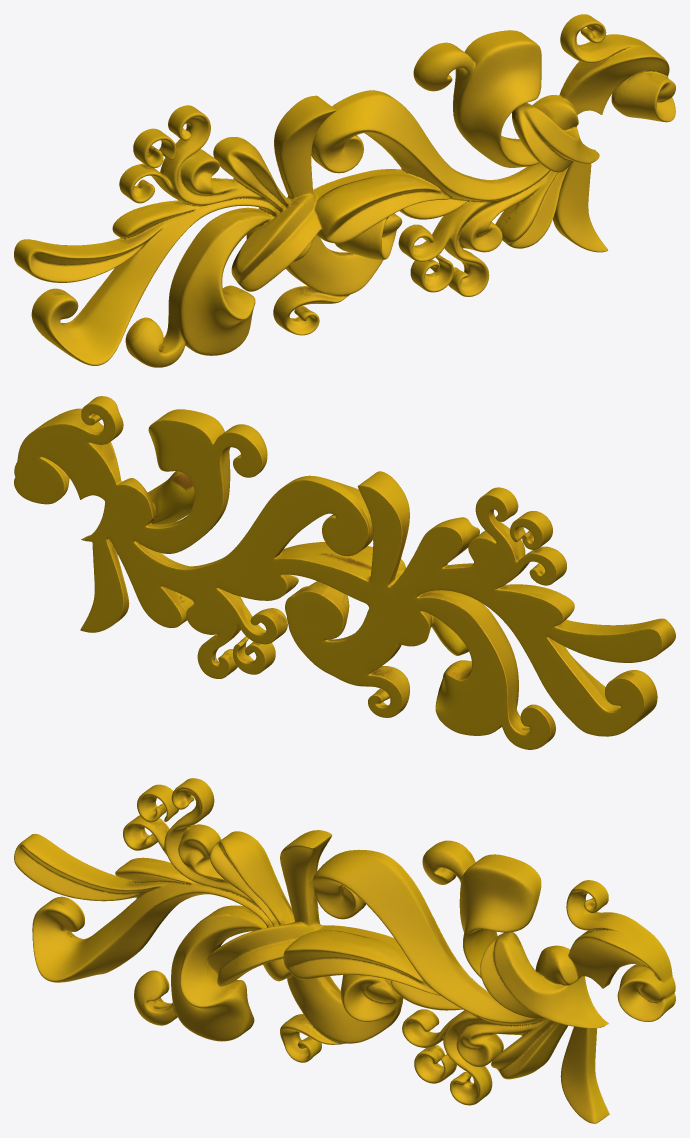
The model's file is Meshy_AI_Gilded_Baroque_Flouri_1016063604_texture.fbx.
3 views of the same model, one above another, from view 1: azimuth 30°, elevation 25°; view 2: azimuth 150°, elevation 25°; view 3: azimuth 330°, elevation 25° (orthographic).
Visible parts, largest first — view 1: Mesh_0; view 2: Mesh_0; view 3: Mesh_0.
Boxes of the visible parts, bbox=[...] form: Mesh_0: bbox=[14, 14, 675, 367]; Mesh_0: bbox=[14, 396, 675, 749]; Mesh_0: bbox=[14, 778, 675, 1123].
Size of the model in its own units: 190 by 70.29 by 16.76.
1 material, 1 textured.
